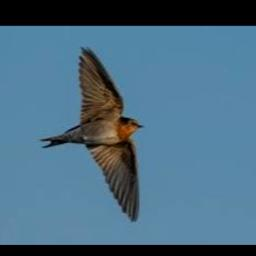Swallow: (41, 45, 145, 223)
